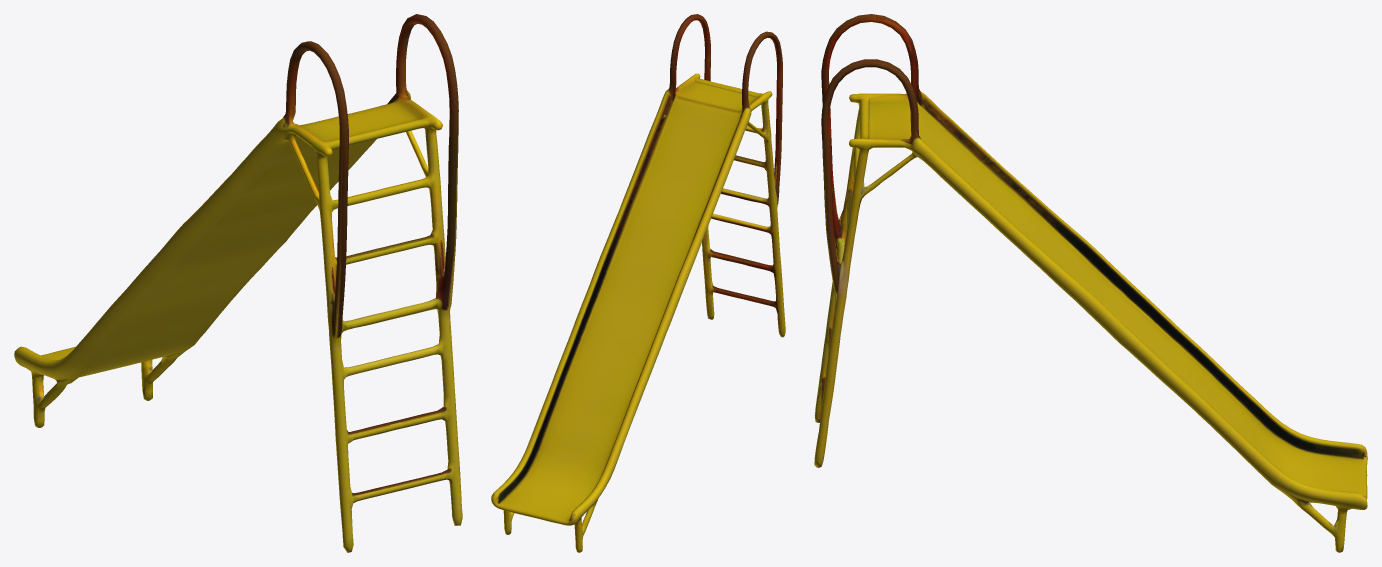
File: tripo_convert_823b514a-4eed-47d6-bc77-e4461d3b7dd5.obj
The picture shows the model from 3 angles, left to right: view 1: azimuth 30°, elevation 25°; view 2: azimuth 150°, elevation 25°; view 3: azimuth 270°, elevation 25°; orthographic projection. The views are drawn at different scales.
Visible parts, largest first — view 1: tripo_node_823b514a-4eed-47d6-bc77-e4461d3b7dd5; view 2: tripo_node_823b514a-4eed-47d6-bc77-e4461d3b7dd5; view 3: tripo_node_823b514a-4eed-47d6-bc77-e4461d3b7dd5.
Boxes of the visible parts, x1,y1,x2,y2 form: tripo_node_823b514a-4eed-47d6-bc77-e4461d3b7dd5: (14, 14, 462, 552); tripo_node_823b514a-4eed-47d6-bc77-e4461d3b7dd5: (491, 14, 785, 552); tripo_node_823b514a-4eed-47d6-bc77-e4461d3b7dd5: (814, 14, 1367, 552).
Bounding box in the file's own units: 0.2199 × 0.9324 × 0.9466.
Materials: 1 (1 with a texture image).
